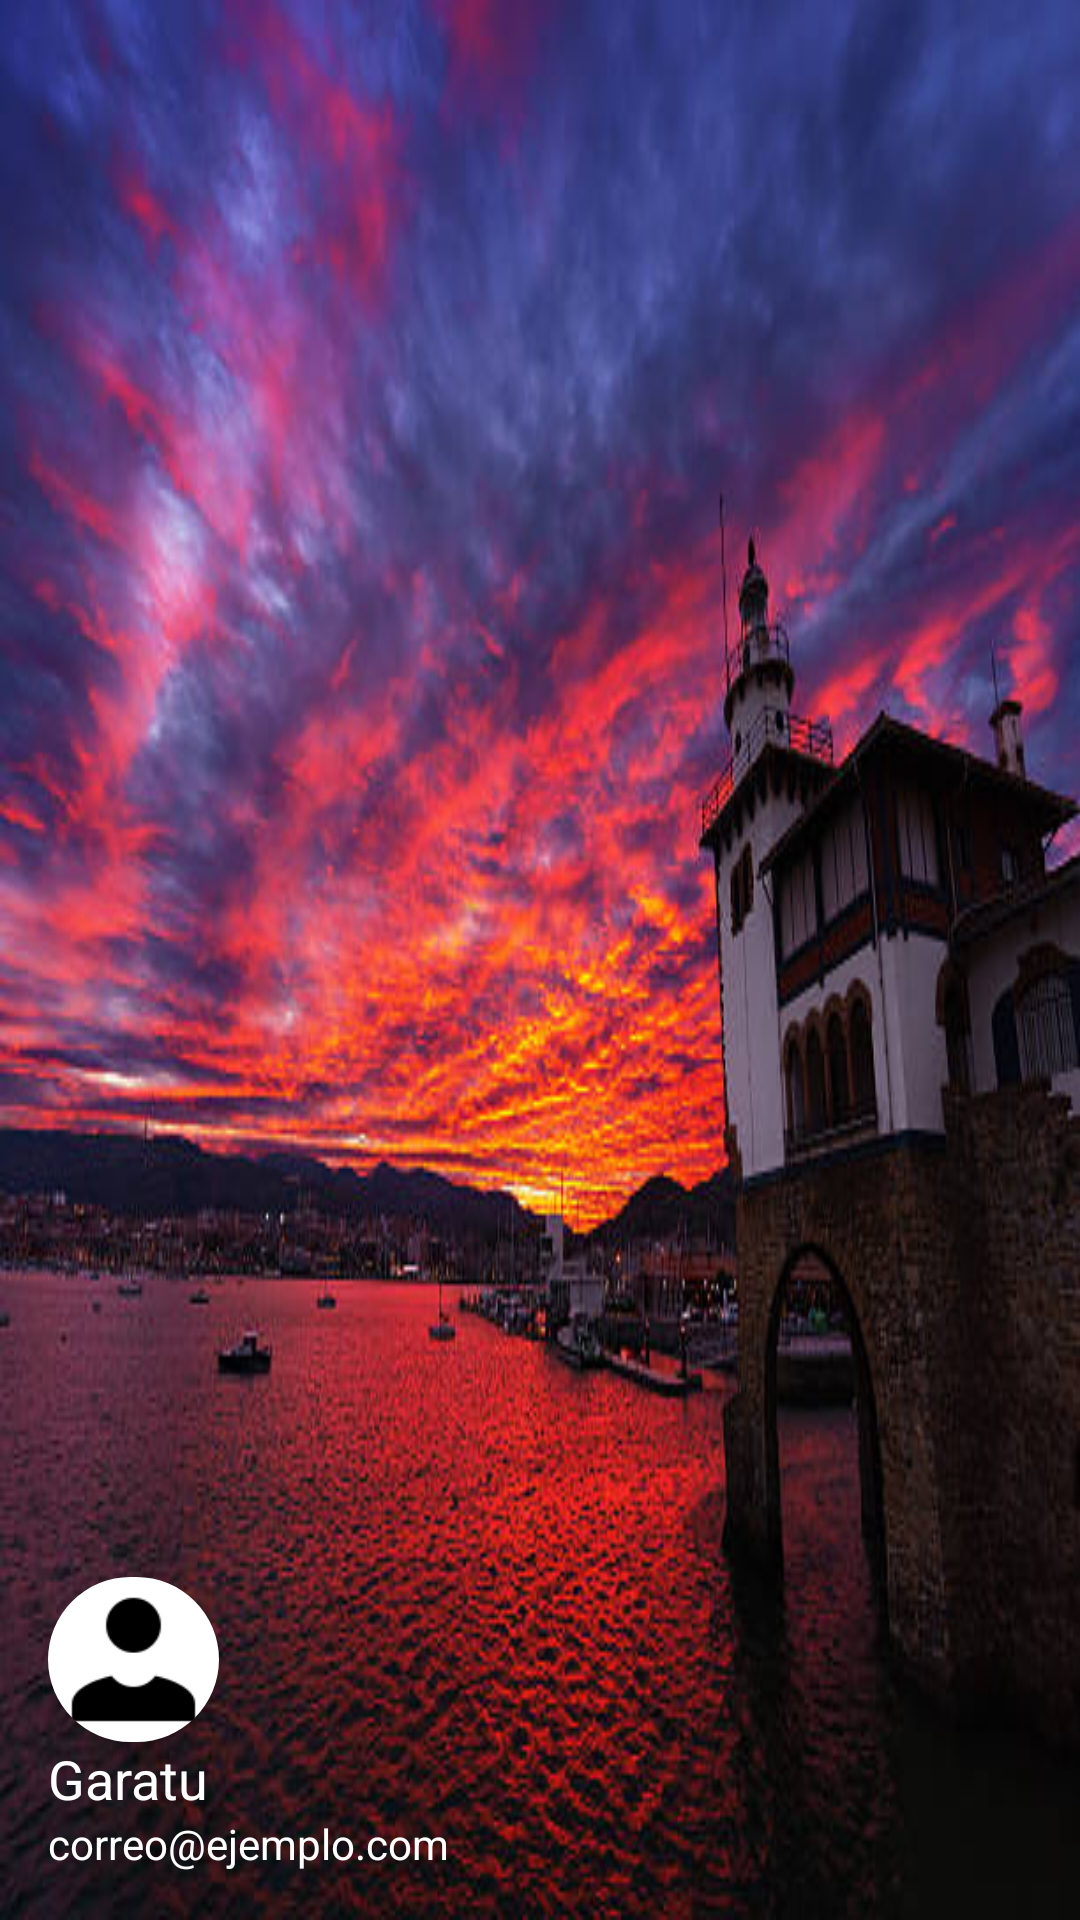

Where icons sit on this 1080*1920 app screen, as (x1, y1, x2, y2):
Imagen de perfil: (48, 1577, 219, 1742)
